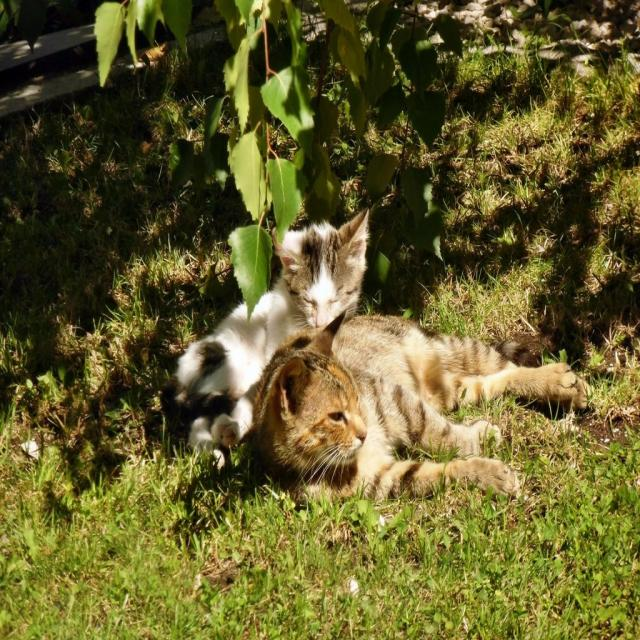Cat: (248, 305, 600, 503), (154, 205, 374, 488)
